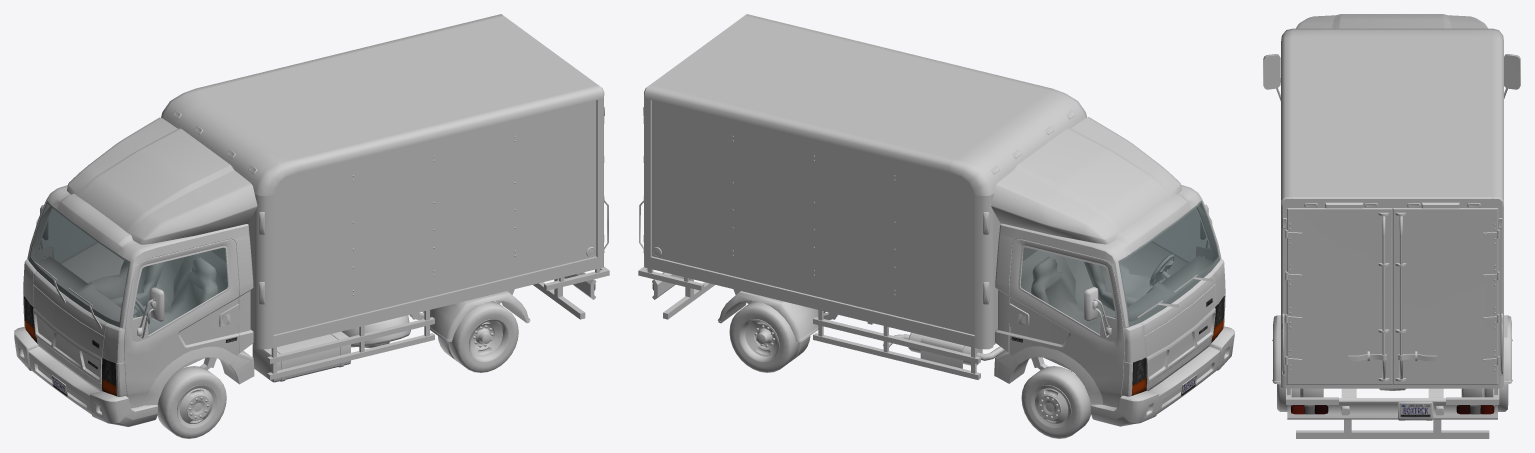
The model's file is LCT13_07.fbx.
The picture shows the model from 3 angles, left to right: view 1: azimuth 30°, elevation 25°; view 2: azimuth 150°, elevation 25°; view 3: azimuth 270°, elevation 25°; orthographic projection. The views are drawn at different scales.
Visible parts, largest first — view 1: LCT13_07_Body, LCT13_07_Bottom, LCT13_07_interior, LCT13_07_Windshield, LCT13_07_Body_Glass, LCT13_07_Wheel_FL, LCT13_07_BUMPER_FRONT, LCT13_07_Wheel_RL; view 2: LCT13_07_Body, LCT13_07_Bottom, LCT13_07_interior, LCT13_07_Windshield, LCT13_07_Body_Glass, LCT13_07_Wheel_FR, LCT13_07_BUMPER_FRONT, LCT13_07_Wheel_RR; view 3: LCT13_07_Body, LCT13_07_Bottom, LCT13_07_Bumper_rear, LCT13_07_Wheel_RR, LCT13_07_Wheel_RL, LCT13_07_Numberplate_rear, LCT13_07_Blinkers, LCT13_07_Brakelights.
Part boxes in pixels (box(x1,y1,x2,y2)): LCT13_07_Body: box(23, 18, 604, 407); LCT13_07_Bottom: box(29, 14, 609, 396); LCT13_07_interior: box(31, 206, 227, 334); LCT13_07_Windshield: box(28, 201, 130, 327); LCT13_07_Body_Glass: box(39, 209, 227, 334); LCT13_07_Wheel_FL: box(157, 366, 226, 438); LCT13_07_BUMPER_FRONT: box(14, 326, 158, 426); LCT13_07_Wheel_RL: box(438, 301, 518, 372); LCT13_07_Body: box(643, 18, 1225, 407); LCT13_07_Bottom: box(638, 14, 1219, 395); LCT13_07_interior: box(1020, 205, 1218, 334); LCT13_07_Windshield: box(1118, 201, 1219, 326); LCT13_07_Body_Glass: box(1020, 209, 1209, 334); LCT13_07_Wheel_FR: box(1021, 366, 1091, 438); LCT13_07_BUMPER_FRONT: box(1090, 326, 1234, 426); LCT13_07_Wheel_RR: box(729, 301, 810, 372); LCT13_07_Body: box(1281, 14, 1503, 384); LCT13_07_Bottom: box(1263, 28, 1520, 438); LCT13_07_Bumper_rear: box(1287, 398, 1497, 420); LCT13_07_Wheel_RR: box(1461, 384, 1508, 411); LCT13_07_Wheel_RL: box(1277, 384, 1323, 411); LCT13_07_Numberplate_rear: box(1400, 403, 1430, 417); LCT13_07_Blinkers: box(1291, 405, 1494, 414); LCT13_07_Brakelights: box(1315, 405, 1469, 414).
Bounding box in the file's own units: 5857 × 2838 × 2433.
